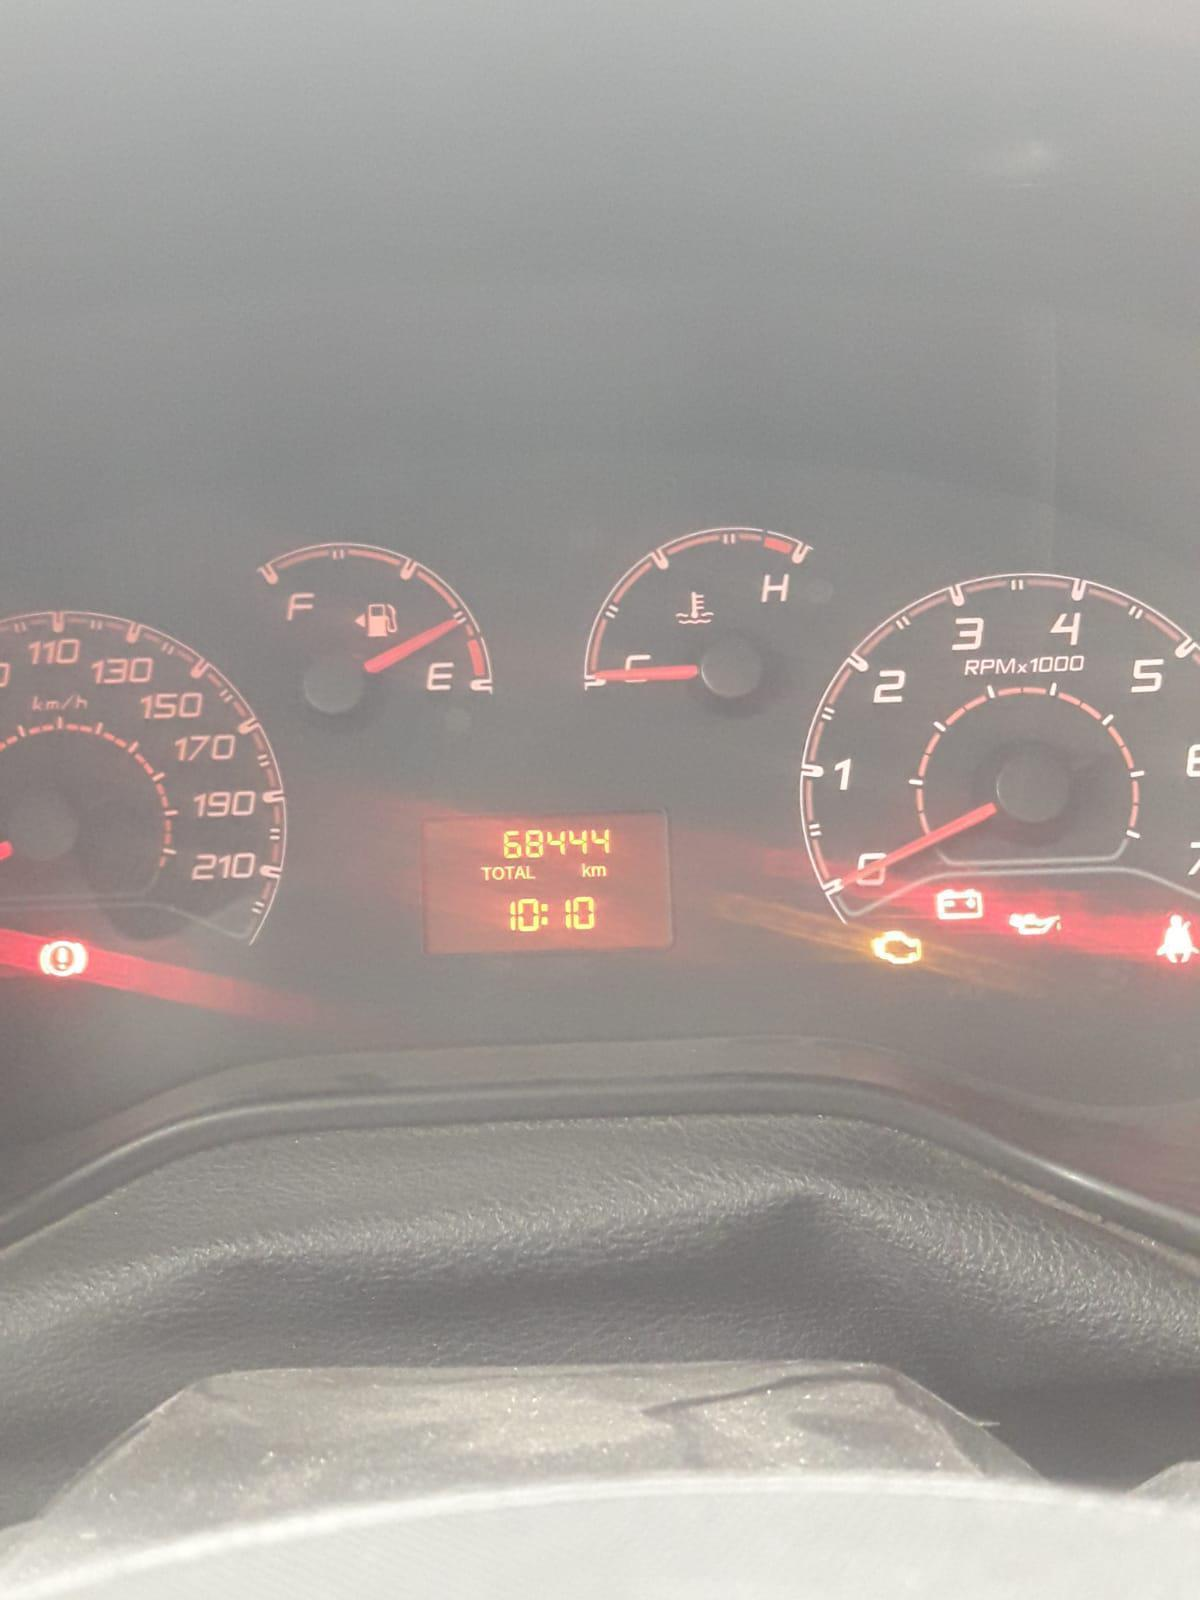0: (517, 897, 539, 934), (574, 894, 595, 931)
1: (505, 898, 517, 934), (563, 896, 574, 931)
4: (589, 826, 613, 854), (545, 829, 566, 855), (568, 828, 587, 855)
6: (500, 829, 523, 860)
8: (524, 828, 546, 859)
X: (539, 902, 550, 929), (591, 864, 608, 878), (492, 866, 504, 881), (504, 864, 516, 881), (581, 860, 591, 878), (479, 866, 492, 879), (526, 864, 536, 879), (516, 864, 524, 879)
odometer: (421, 808, 671, 951)
